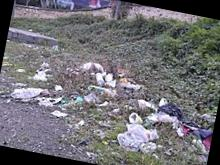road: (117, 123, 158, 151), (157, 102, 182, 120), (194, 129, 213, 150), (10, 87, 43, 99), (156, 111, 177, 123), (137, 99, 157, 111), (104, 73, 116, 87), (95, 72, 104, 85), (104, 73, 113, 82), (101, 71, 106, 77)
